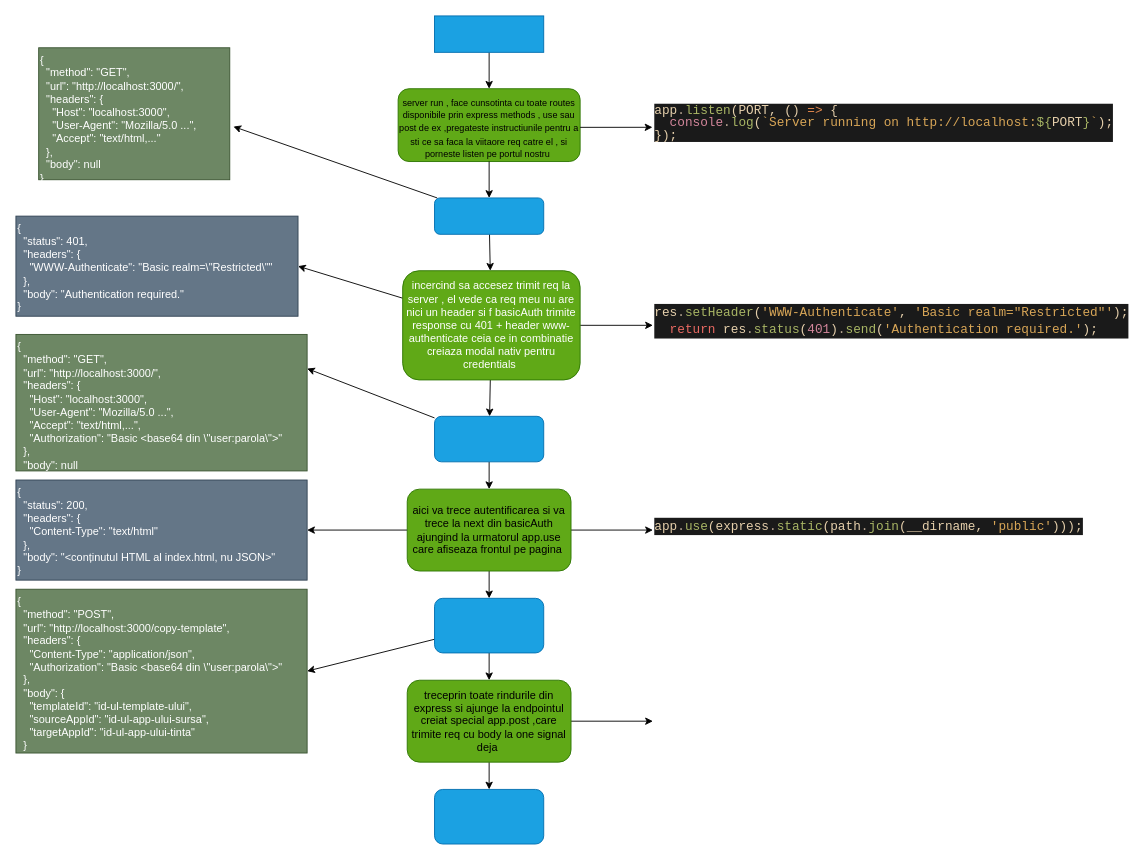
Some shapes in this 1145 by 860 pixel diagram are drawn without their labels. The shapes that lost their labels are listed below. From the top down, each one's centre as x and y in pixels, then its label:
(489,33): npm start
(489,215): localhost:PORT
(489,438): inseram datele si retrimitem alt req cu date pentru auth
(489,625): inseram datele in formular si apasam send
(489,816): send the result to front succes or err
